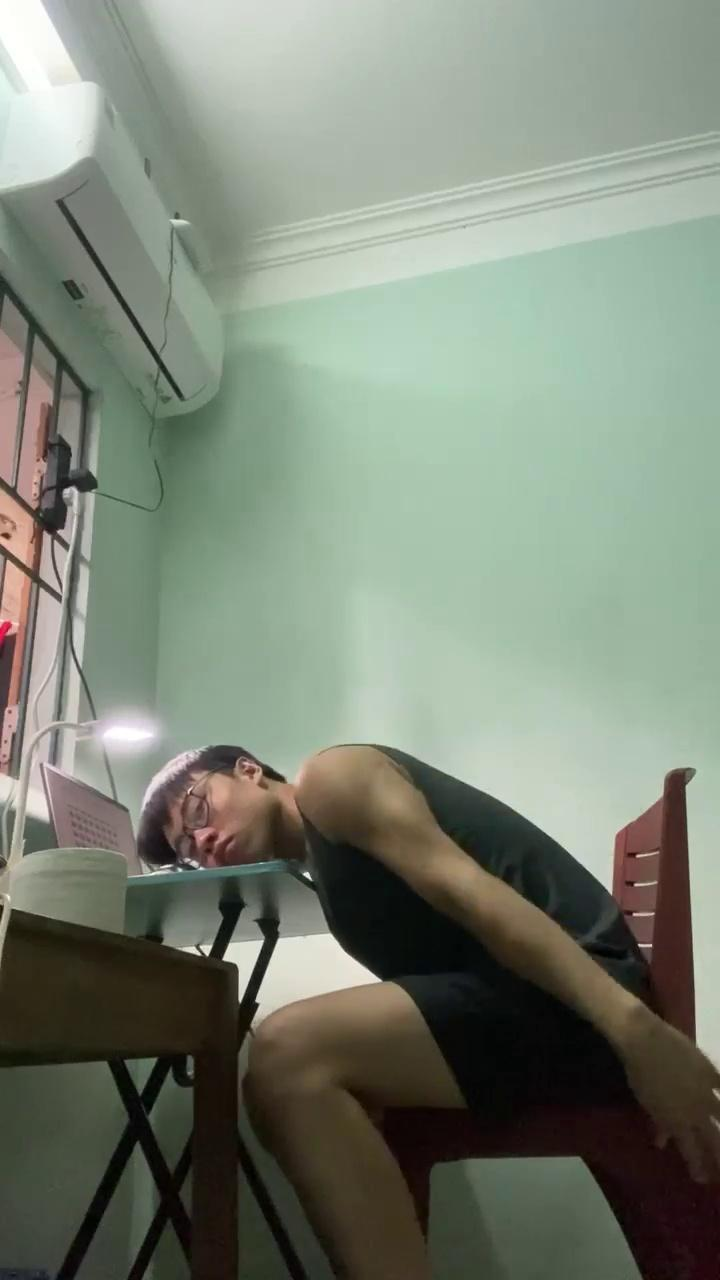BadPosture: (140, 743, 719, 1279)
